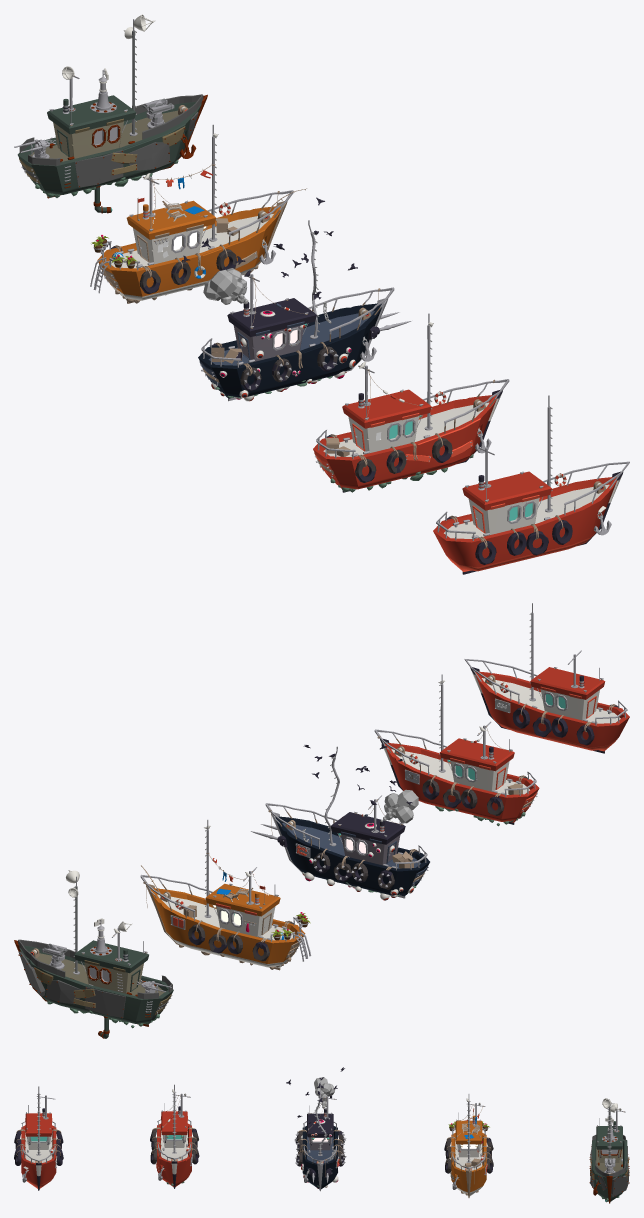
Rendered from ships_drafts_lowpoly_models.glb.
The picture shows the model from 3 angles, top to bottom: view 1: azimuth 30°, elevation 25°; view 2: azimuth 150°, elevation 25°; view 3: azimuth 270°, elevation 25°; orthographic projection. The views are drawn at different scales.
Visible parts, largest first — view 1: polySurface22, polySurface8, polySurface127, polySurface208, polySurface328, pCube49, pCube3, pCube80, pCube126, pCube180, pCylinder203, polySurface19 (+15 smaller); view 2: polySurface22, polySurface208, polySurface8, polySurface127, polySurface328, polySurface327, pCube49, pCube3, pCube80, pCube126, pCube180, pCylinder203 (+14 smaller); view 3: polySurface22, polySurface208, polySurface8, polySurface127, polySurface328, pCube49, pCube3, pCube80, pCylinder203, pCylinder319, pCube126, pCylinder427 (+13 smaller).
Part boxes in pixels (x1,y1,x2,y2): polySurface22: (433,477,616,571); polySurface8: (313,395,496,489); polySurface127: (198,303,381,398); polySurface208: (97,206,281,300); polySurface328: (17,101,201,194); pCube49: (462,471,551,510); pCube3: (342,389,431,428); pCube80: (227,298,316,337); pCube126: (126,200,215,239); pCube180: (47,95,135,134); pCylinder203: (446,515,572,564); polySurface19: (444,484,609,538); polySurface22: (475,671,629,751); polySurface208: (150,888,305,967); polySurface8: (385,743,539,822); polySurface127: (275,816,429,896); polySurface328: (19,945,173,1024); polySurface327: (34,967,125,1018); pCube49: (530,667,605,699); pCube3: (439,738,514,771); pCube80: (330,812,405,844); pCube126: (205,883,280,916); pCube180: (74,940,148,973); pCylinder203: (512,703,618,745); polySurface22: (21,1125,56,1188); polySurface208: (451,1133,486,1195); polySurface8: (157,1123,191,1186); polySurface127: (302,1126,337,1189); polySurface328: (592,1139,627,1201); pCube49: (25,1113,51,1136); pCube3: (161,1111,187,1134); pCube80: (307,1113,333,1137); pCylinder203: (14,1129,63,1165); pCylinder319: (294,1129,346,1166); pCube126: (455,1120,482,1144); pCylinder427: (444,1136,493,1173).
Bounding box in the file's own units: 18.53 × 13.24 × 65.36.
